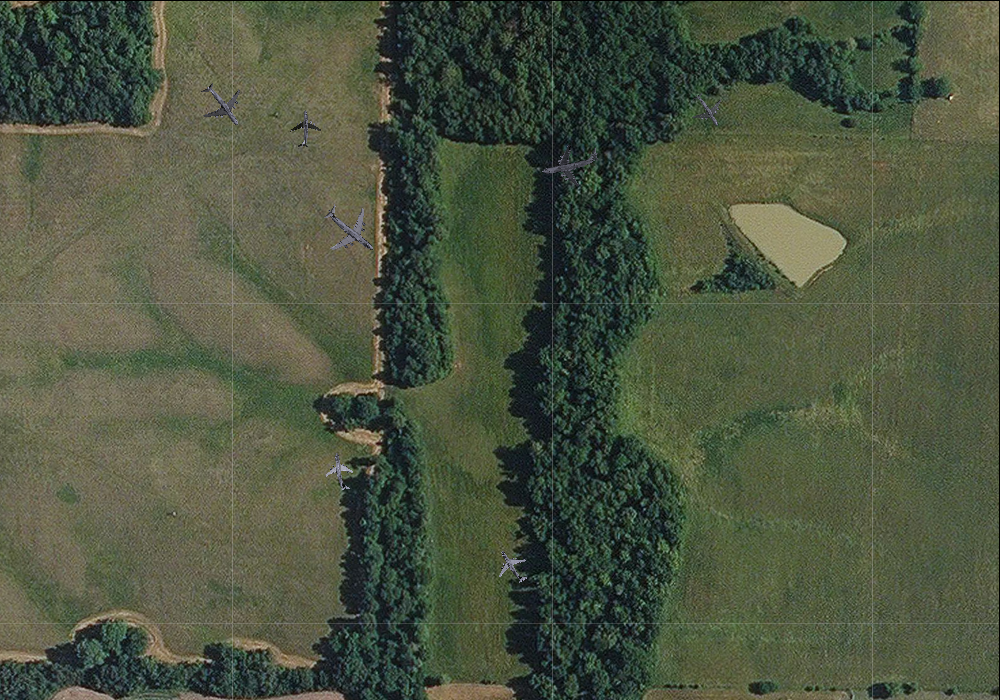plane: (309, 189, 391, 270), (188, 71, 256, 139), (536, 132, 604, 193), (682, 84, 732, 135), (487, 541, 537, 591), (321, 450, 360, 493), (286, 109, 322, 147)
